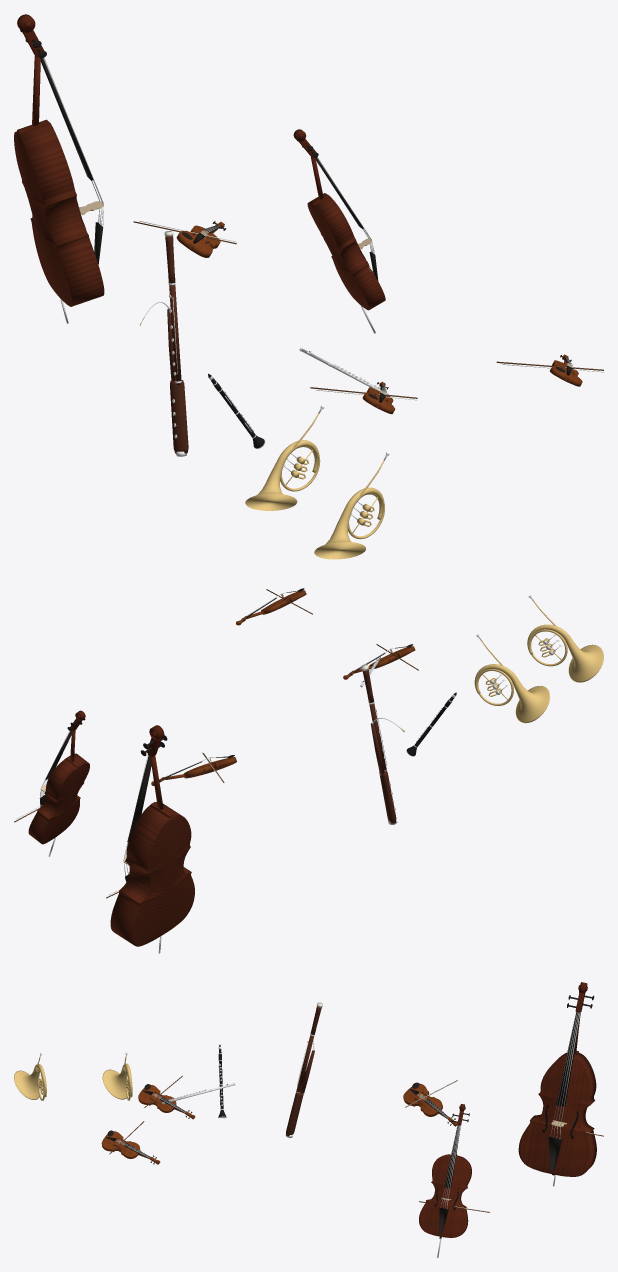
The model's file is CR3_instruments.fbx.
3 renders of one model, top to bottom at view 1: azimuth 30°, elevation 25°; view 2: azimuth 150°, elevation 25°; view 3: azimuth 270°, elevation 25°, orthographic. The views are drawn at different scales.
Parts seen in each view (by area): view 1: Contrabass.001, Cello.001, Horns, Bassoon, Viola.001, Bows; view 2: Contrabass.001, Horns, Cello.001, Bassoon, Viola.001, ViolinI.001, ViolinII.001; view 3: Contrabass.001, Cello.001, Horns, Bassoon, Viola.001, ViolinI.001, ViolinII.001.
Boxes of the visible parts, x1,y1,x2,y2 form: Contrabass.001: (14,14,104,306); Cello.001: (293,129,385,310); Horns: (245,405,389,559); Bassoon: (139,231,188,456); Viola.001: (176,221,226,257); Bows: (133,221,603,400); Contrabass.001: (110,725,194,946); Horns: (474,595,603,723); Cello.001: (28,710,89,844); Bassoon: (361,664,404,824); Viola.001: (151,755,236,785); ViolinI.001: (236,588,306,625); ViolinII.001: (343,644,415,679); Contrabass.001: (518,982,596,1176); Cello.001: (419,1104,471,1238); Horns: (14,1052,132,1100); Bassoon: (285,1002,322,1137); Viola.001: (403,1082,457,1126); ViolinI.001: (101,1130,160,1164); ViolinII.001: (138,1084,195,1119).
Size of the model in its own units: 2.61 by 1.98 by 5.36.
17 materials, 4 textured.
